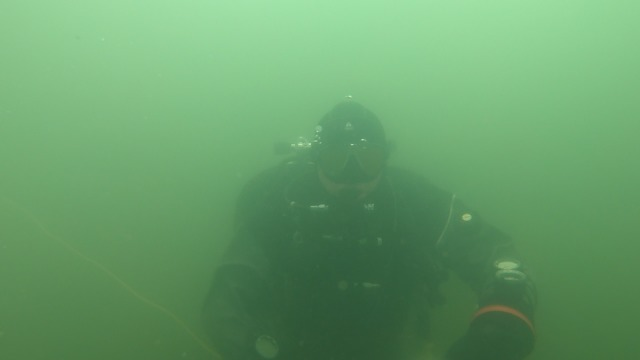Diver: (183, 90, 557, 357)
Hand: (423, 319, 550, 357)
Head: (302, 103, 402, 226)
